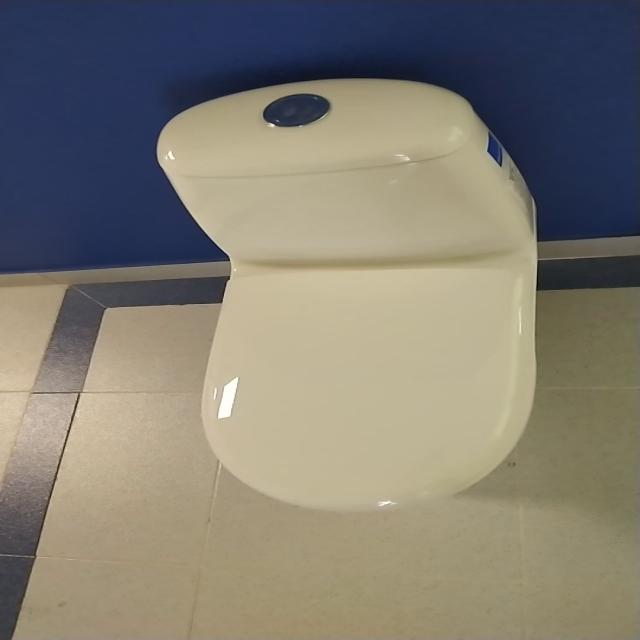toilet: (154, 77, 538, 512)
